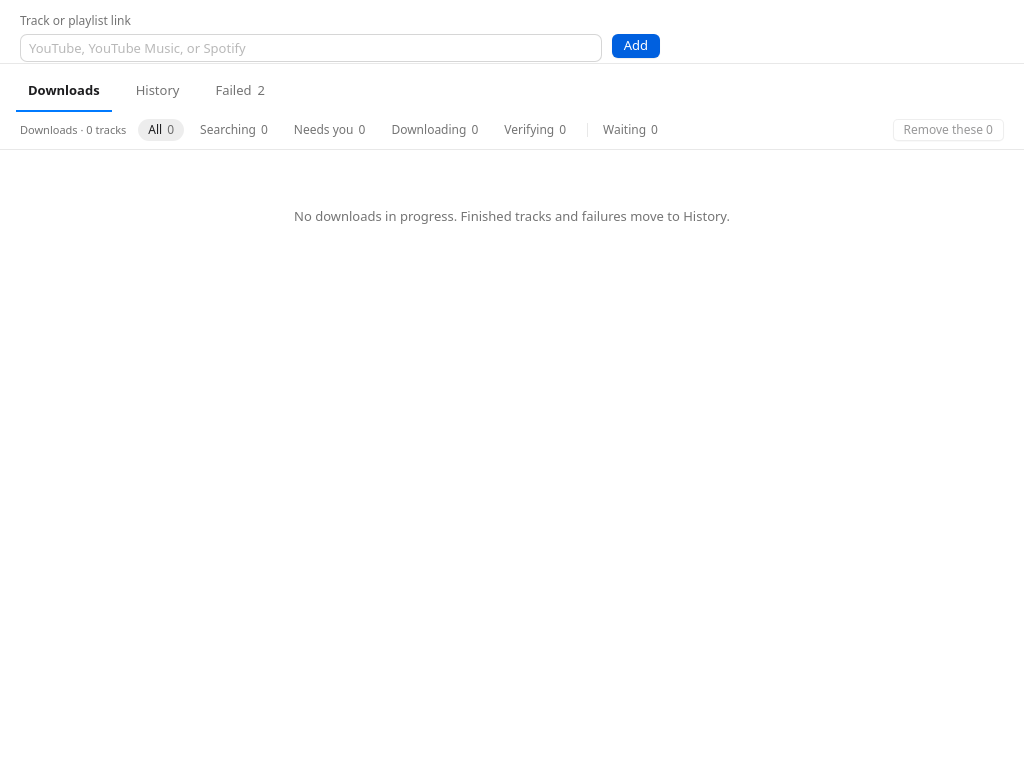
Test: Retry all on the Failed tab › sits there disabled when the failures on screen are all unretryable
What coordinates should you click on to do the following:
click the tab "Failed 2"
I would click on:
 (240, 92)
Its box is [203,72,277,112].
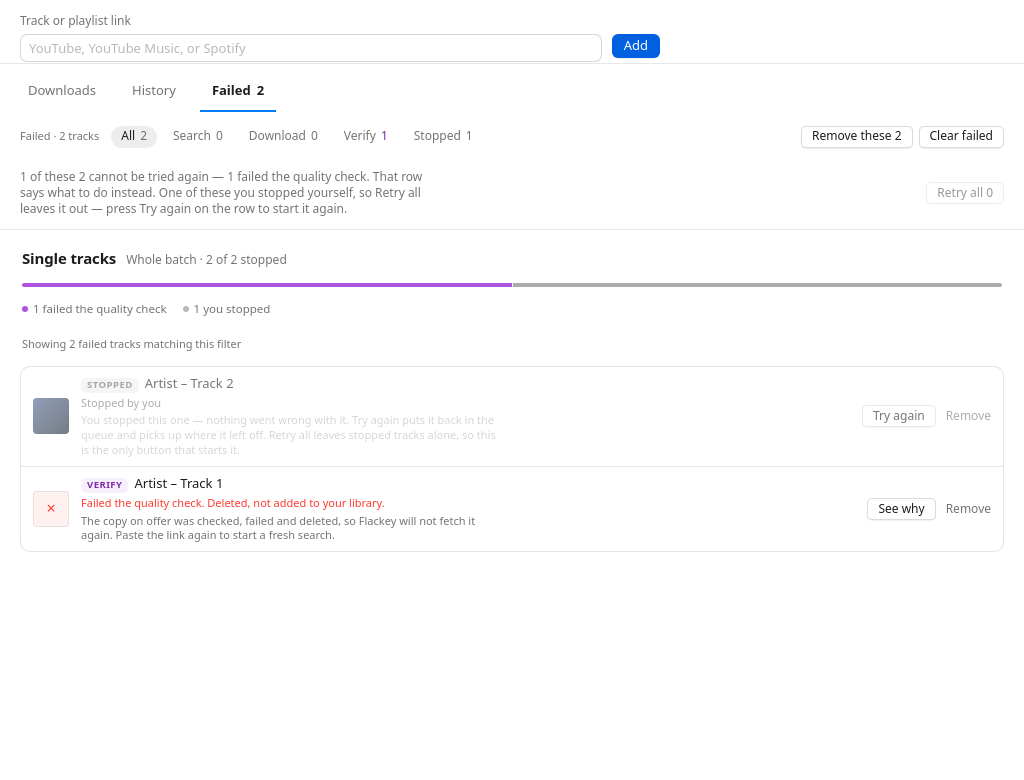
Expected: the button "Retry all 0" is disabled, [926,182,1004,204]
